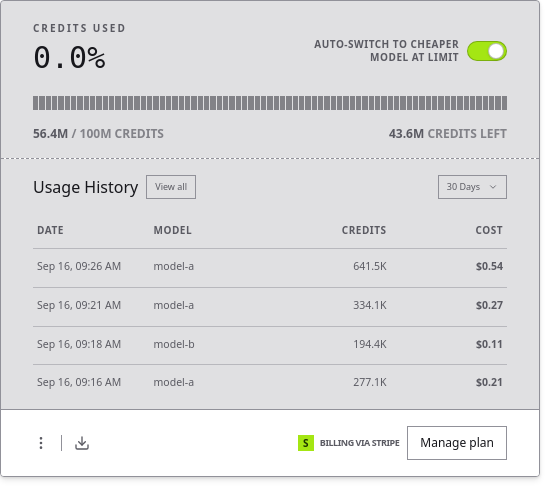
credit-usage-card › picks the usage period through the shared dropdown menu
The image size is (558, 498).
Press the mouse on the button with aria-label "select usage period": (472, 187) [438,175,507,199]
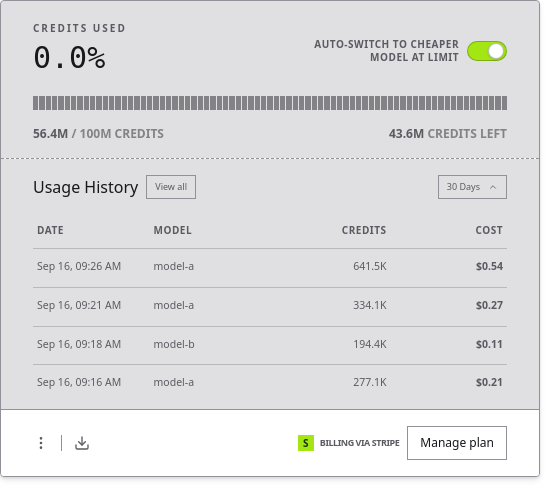
Click the button with aria-label "select usage period": (472, 187) [438,175,507,199]
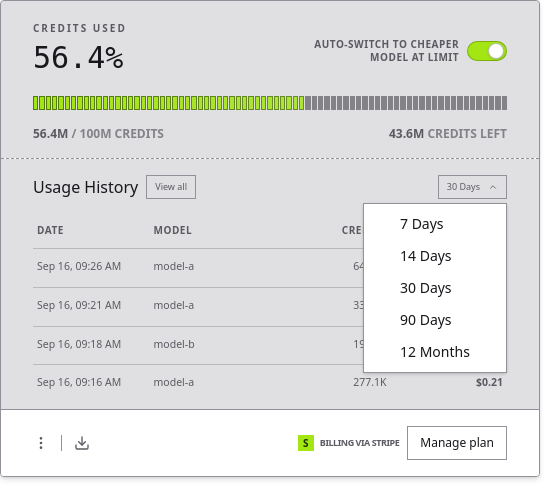
Result: the menu item "14 Days" is shown
Click the menu item "14 Days": (426, 256) [400,246,452,265]
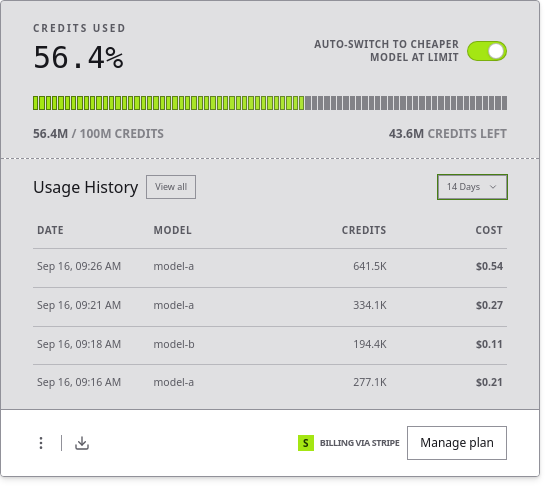
Result: the button with aria-label "select usage period" reads "14 Days" at [438,175,507,199]
